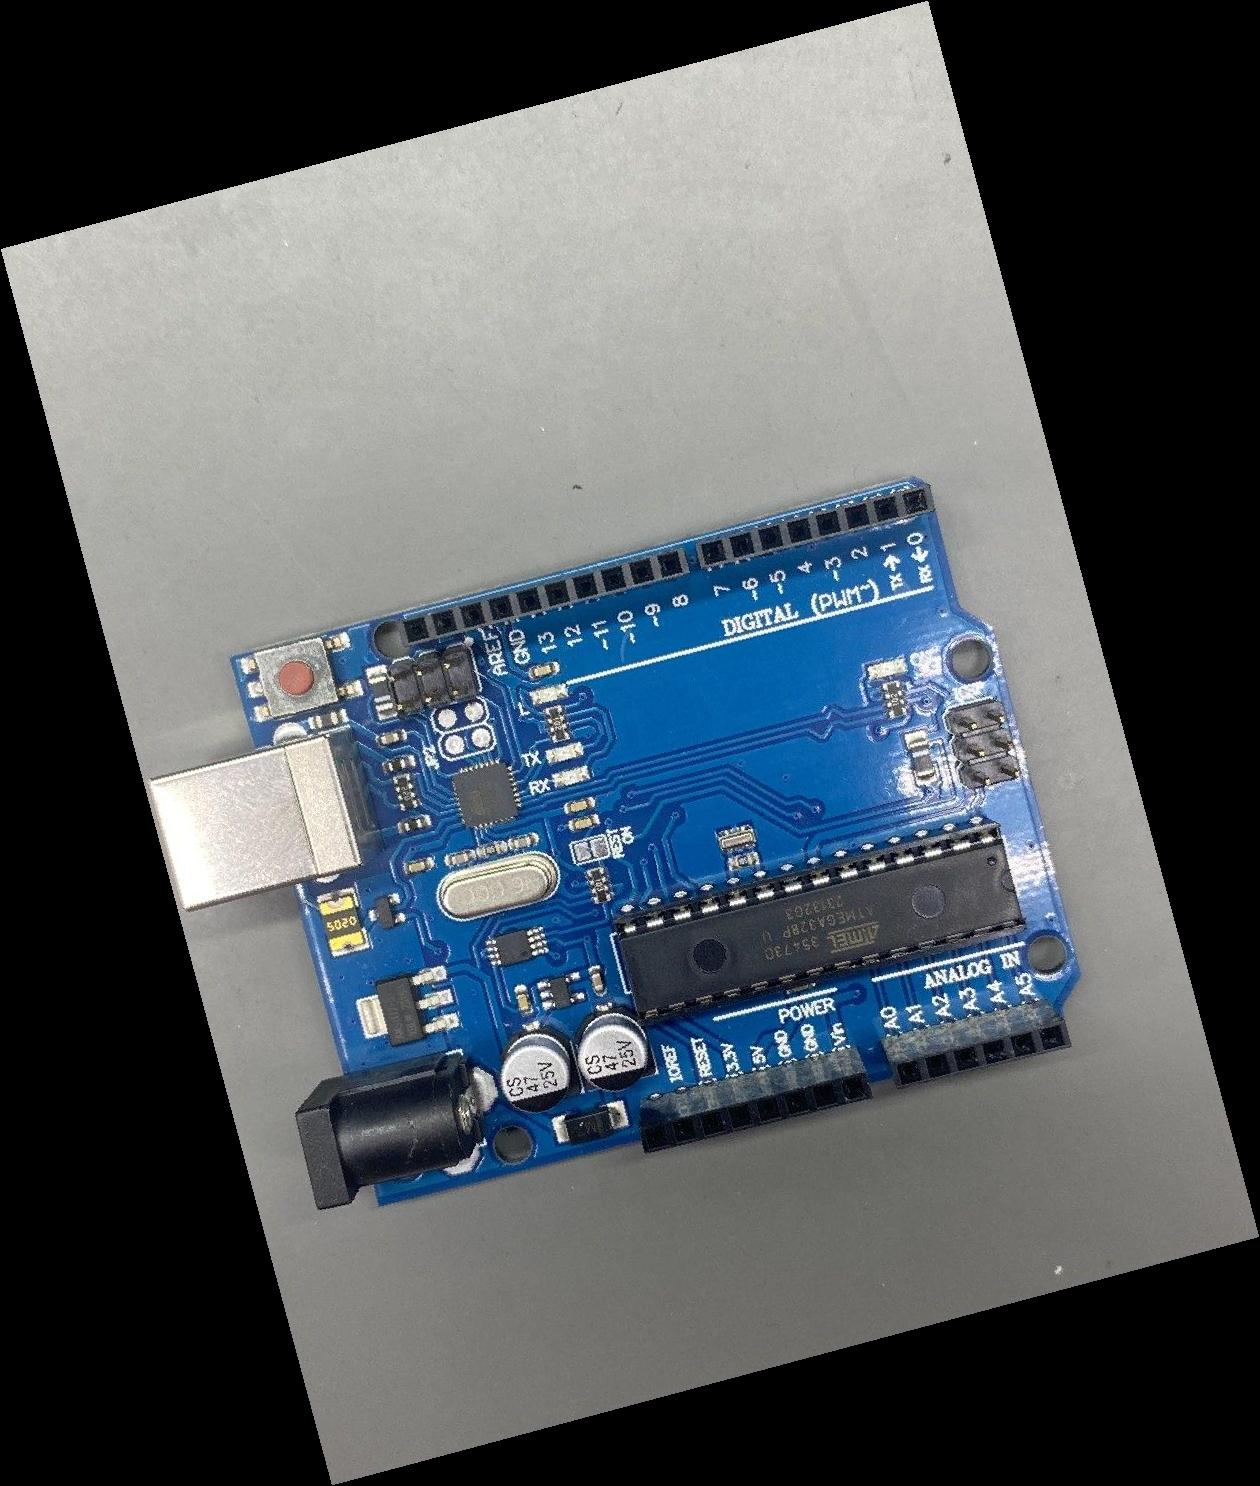ATmega328 chip: (614, 815, 1028, 1027)
Arduino board: (146, 475, 1082, 1211)
USB: (144, 726, 386, 914)
capacitor: (501, 1029, 582, 1115), (575, 1005, 655, 1090)
pins: (395, 547, 690, 649), (639, 1045, 873, 1155), (695, 484, 937, 572), (880, 998, 1072, 1089)
resistor: (391, 773, 418, 813), (881, 680, 908, 719), (544, 705, 571, 743), (585, 866, 612, 904)
